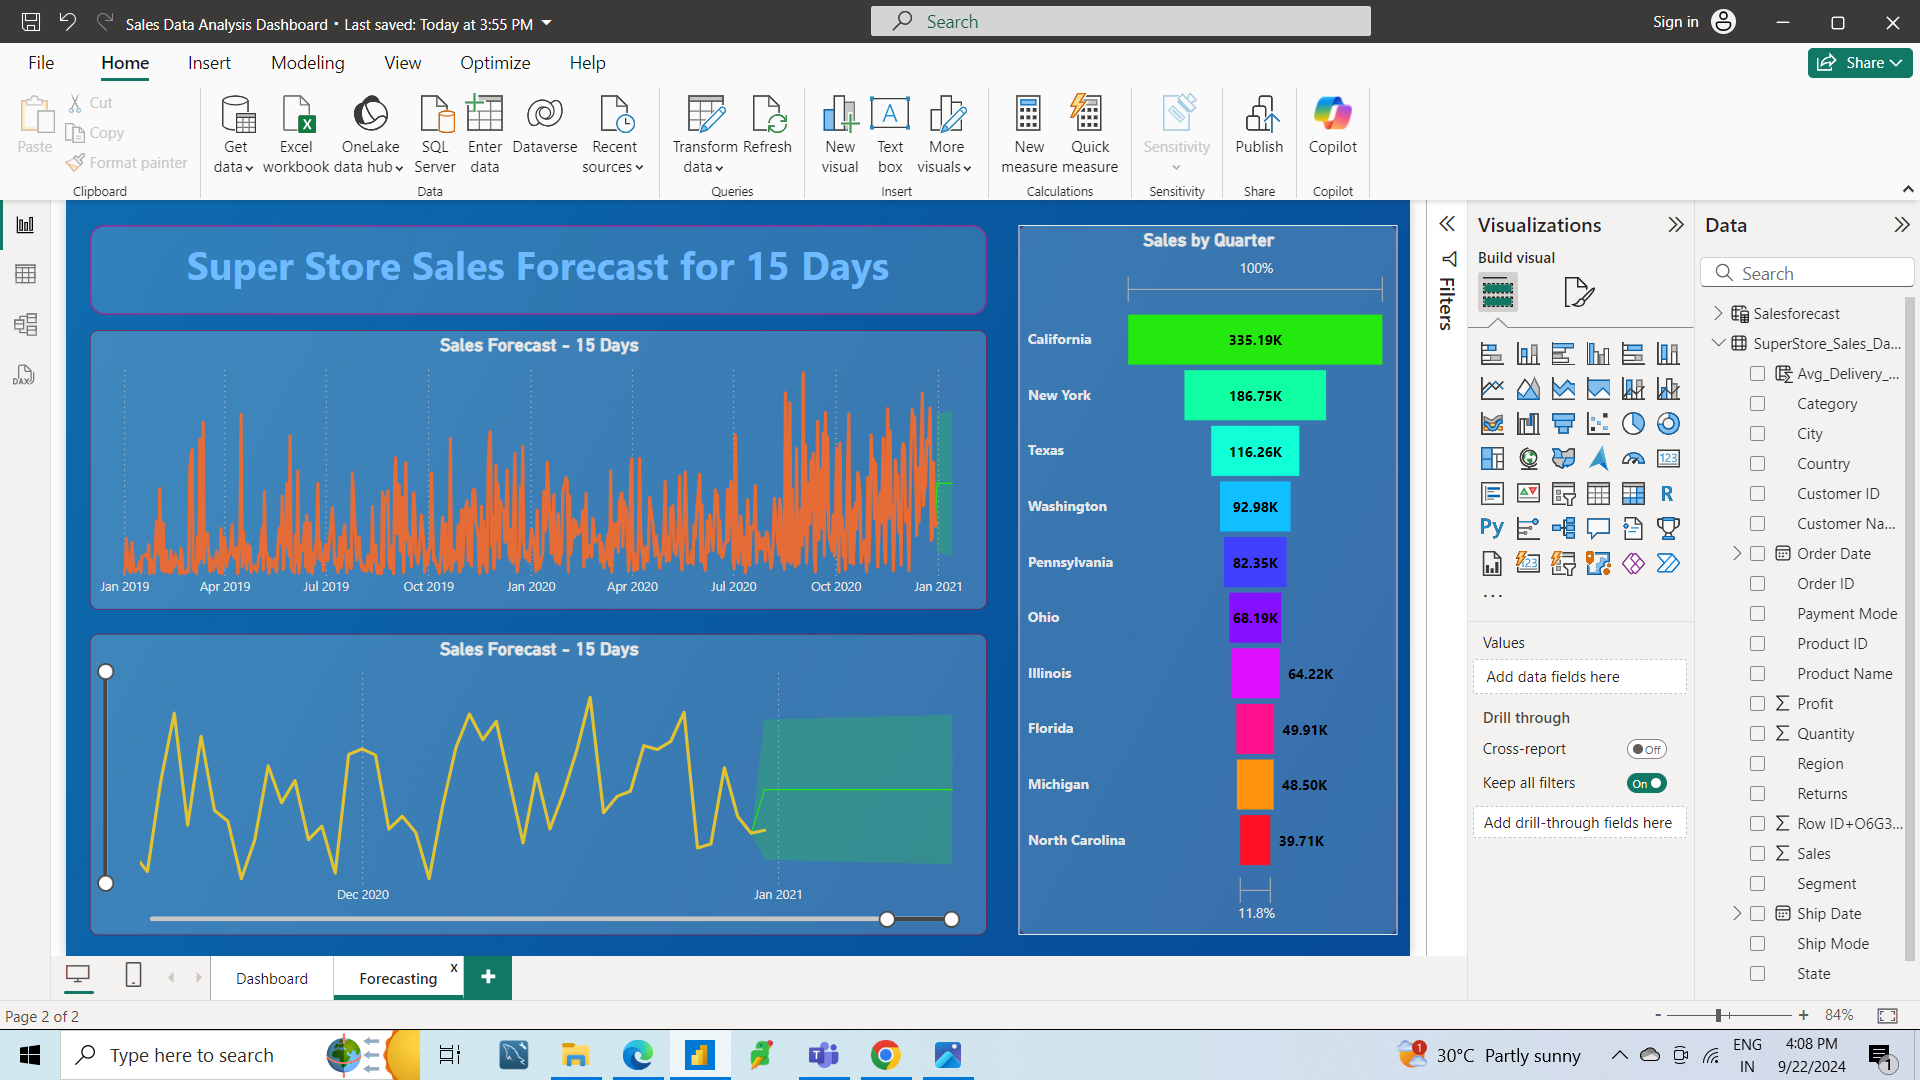

The page's visual inventory and layout, read from the dashboard file:
{"tool":"powerbi","page":{"name":"Forecasting","canvas":[1280,720],"ordinal":1},"visuals":[{"type":"lineChart","title":"Sales Forecast - 15 Days","fields":{"Y":["Sum(SuperStore_Sales_Dataset.Sales)"],"Category":["SuperStore_Sales_Dataset.Order Date"]},"box":[22.6,123.8,854.8,266.7],"z":0},{"type":"lineChart","title":"Sales Forecast - 15 Days","fields":{"Y":["Sum(SuperStore_Sales_Dataset.Sales)"],"Category":["SuperStore_Sales_Dataset.Order Date"]},"box":[22.6,413.1,854.8,286.9],"z":1},{"type":"funnel","title":"Sales by Quarter","fields":{"Category":["SuperStore_Sales_Dataset.State"],"Y":["Sum(SuperStore_Sales_Dataset.Sales)"]},"box":[907.1,23.8,360.7,676.2],"z":2},{"type":"textbox","box":[22.6,23.8,854.8,85.7],"z":3}]}

Visuals, with their boxes on the page's 1280x720 design canvas (x1, y1, x2, y2). These are canvas units, not pixel positions in the 1920x1080 screenshot, which may show the page scaled, cropped or inside an application window:
"Sales Forecast - 15 Days" lineChart: (23,124,877,390)
"Sales Forecast - 15 Days" lineChart: (23,413,877,700)
"Sales by Quarter" funnel: (907,24,1268,700)
textbox: (23,24,877,110)
